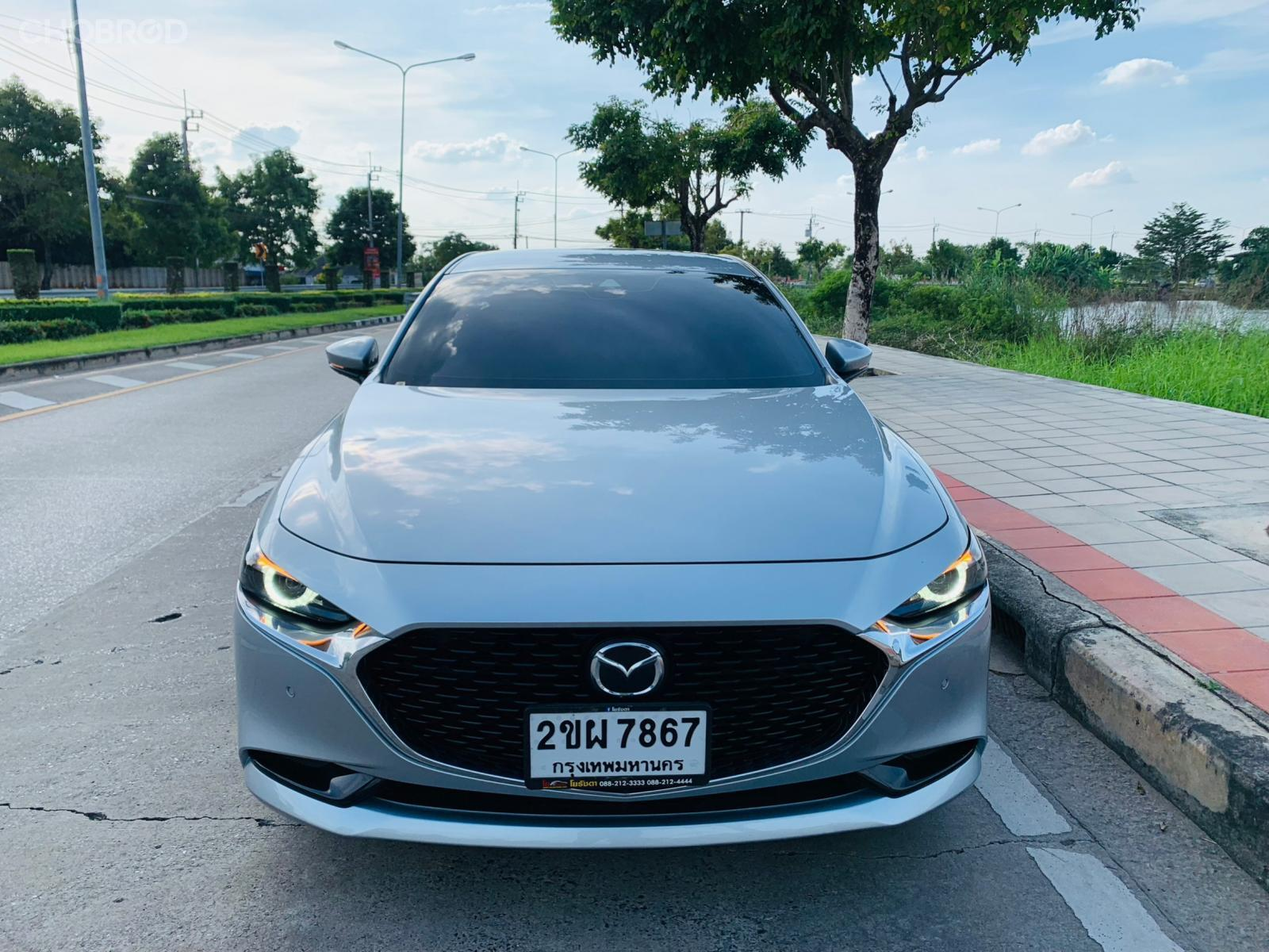license-plate: (521, 706, 710, 793)
